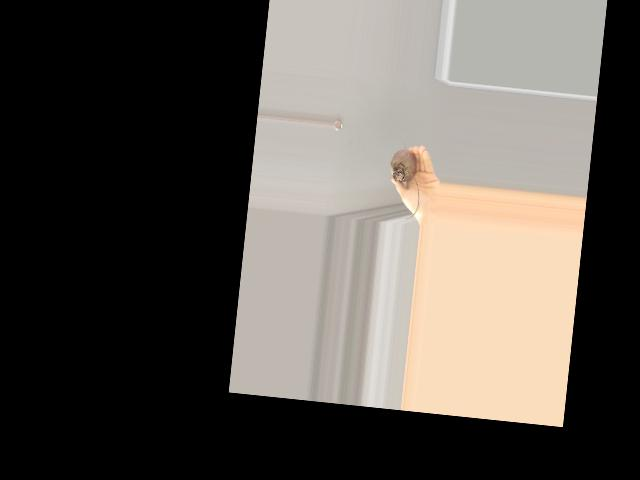beet: (385, 139, 425, 219)
